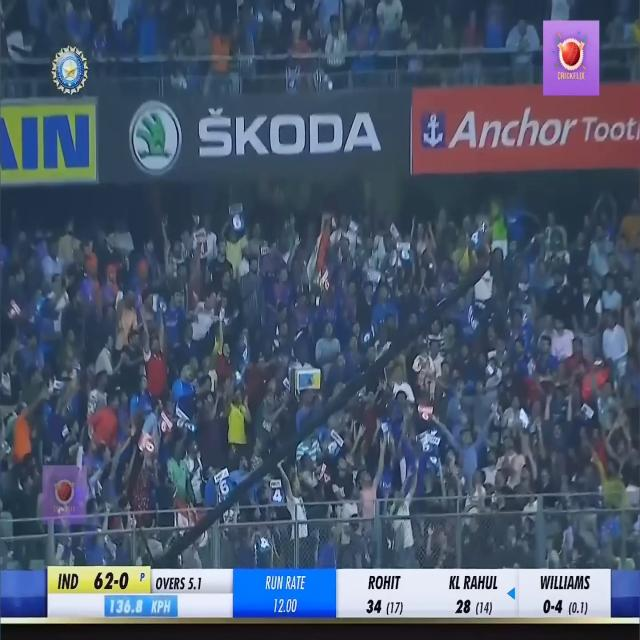partially_visible: (270, 474, 284, 491), (212, 468, 229, 482)
